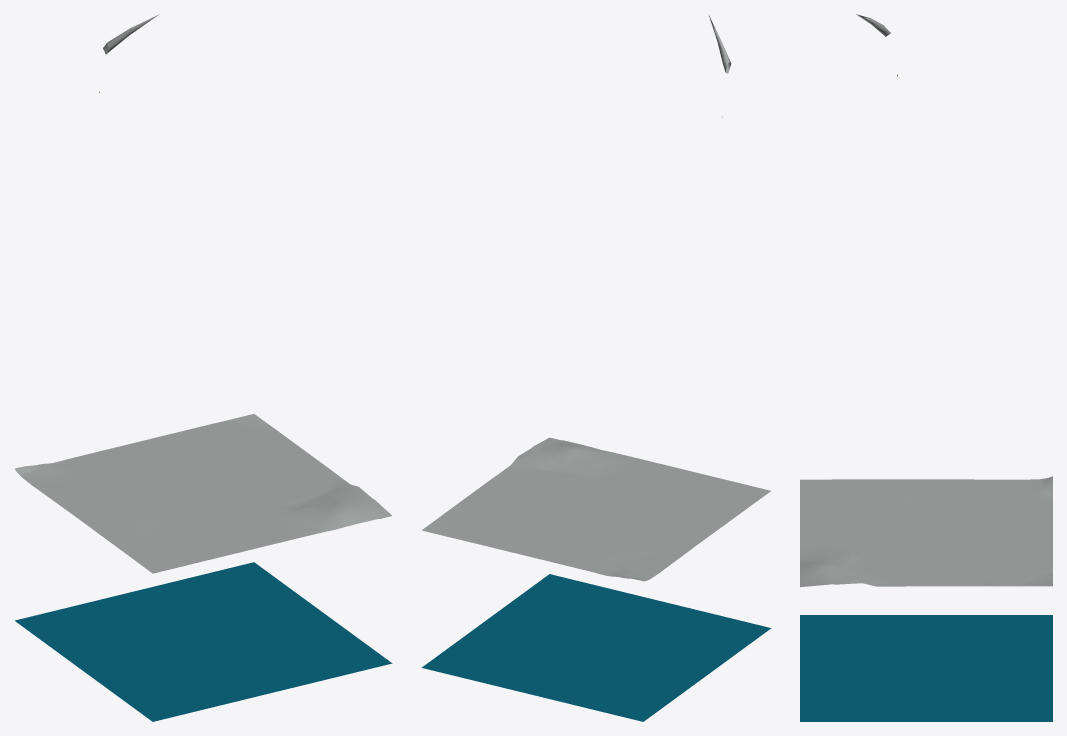
3 views of the same model, side by side, from view 1: azimuth 30°, elevation 25°; view 2: azimuth 150°, elevation 25°; view 3: azimuth 270°, elevation 25° (orthographic). The views are drawn at different scales.
Visible parts, largest first — view 1: G:\FFXIV-MapTools\exports\s1f3\bg\ffxiv\sea_s1\fld\s1f3\bgpl (×8); view 2: G:\FFXIV-MapTools\exports\s1f3\bg\ffxiv\sea_s1\fld\s1f3\bgpl (×7); view 3: G:\FFXIV-MapTools\exports\s1f3\bg\ffxiv\sea_s1\fld\s1f3\bgpl (×9).
Part boxes in pixels (left/top/right/bottom): G:\FFXIV-MapTools\exports\s1f3\bg\ffxiv\sea_s1\fld\s1f3\bgpl (×8): left=14, top=414, right=392, bottom=721; G:\FFXIV-MapTools\exports\s1f3\bg\ffxiv\sea_s1\fld\s1f3\bgpl (×7): left=421, top=443, right=771, bottom=721; G:\FFXIV-MapTools\exports\s1f3\bg\ffxiv\sea_s1\fld\s1f3\bgpl (×9): left=800, top=476, right=1052, bottom=721.
Size of the model in its own units: 128 by 345 by 128.
